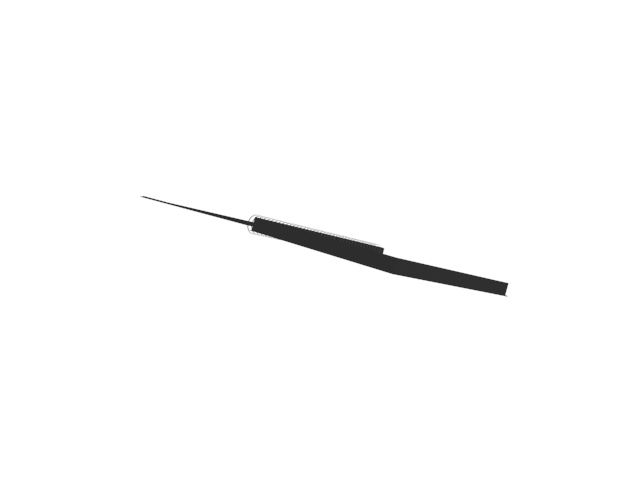paper_notebook: (137, 193, 512, 304)
